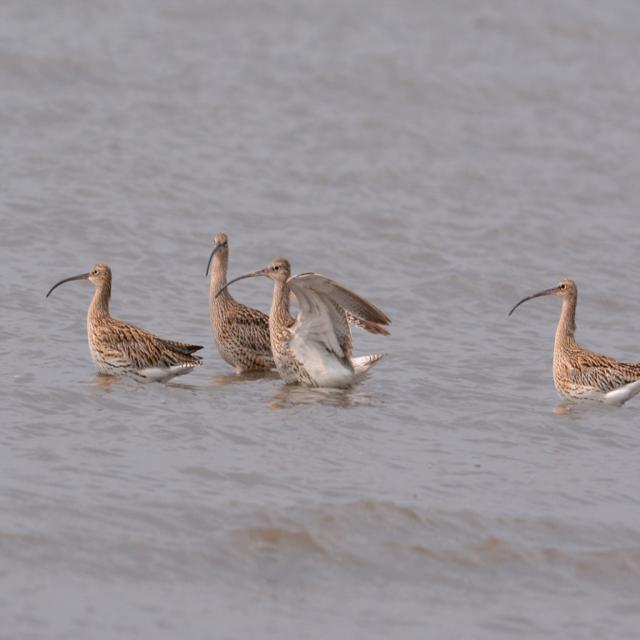bird: (216, 255, 394, 395), (41, 258, 211, 388), (504, 275, 640, 404), (201, 234, 290, 387)
